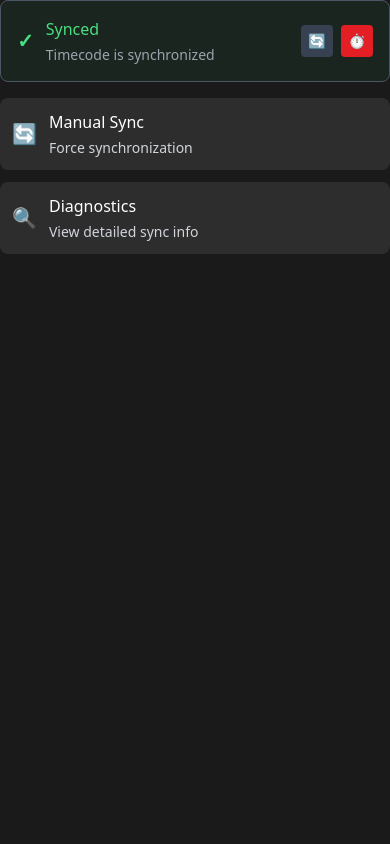
Scenario: TimecodeSync › closes diagnostics modal when close button is clicked
Open diagnostics
Click the text "Diagnostics" at (93, 206), box [49,195,136,217]
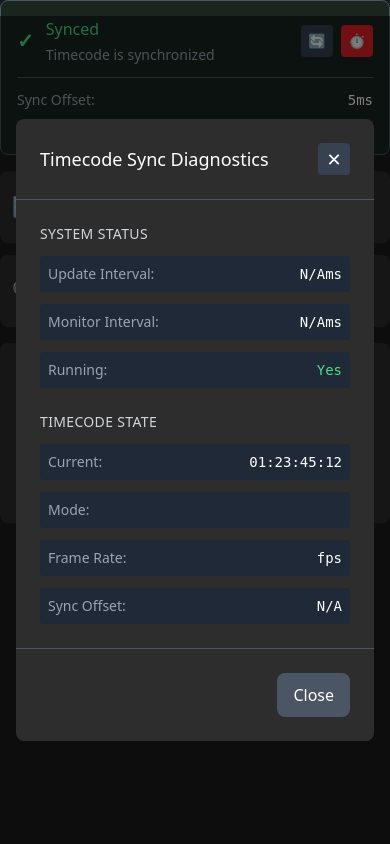
Check: the heading "Timecode Sync Diagnostics" is shown, box [40,145,269,173]
Close diagnostics
Click the button "✕" at (334, 159), box [318,143,350,175]
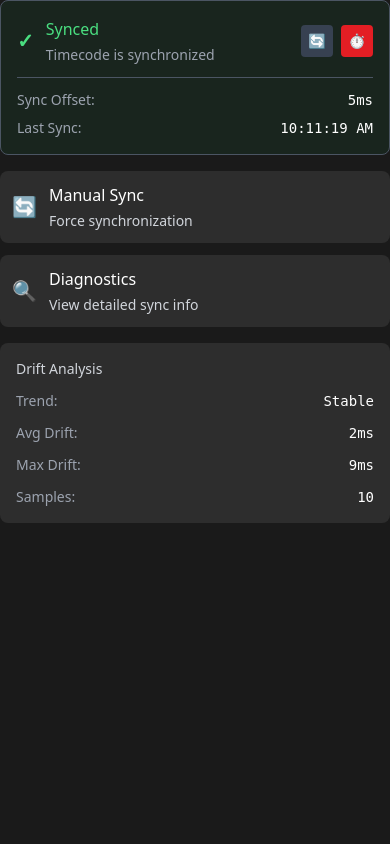
Check: the heading "Timecode Sync Diagnostics" is gone
